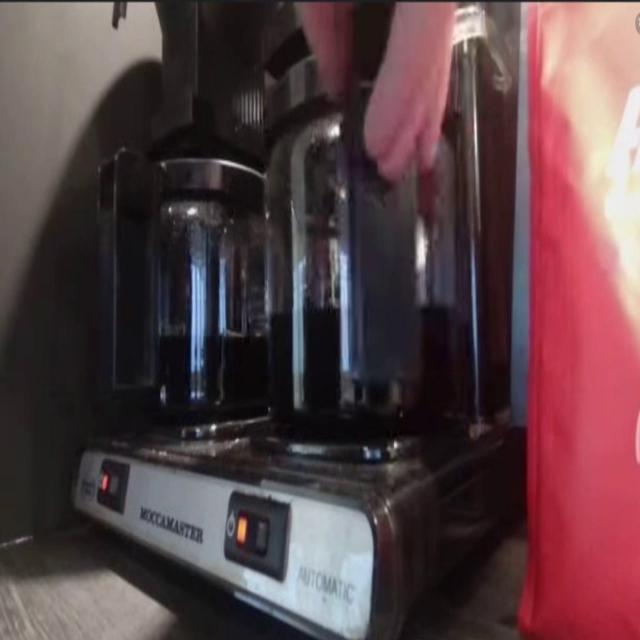coffee: (257, 35, 477, 464), (112, 126, 286, 420)
